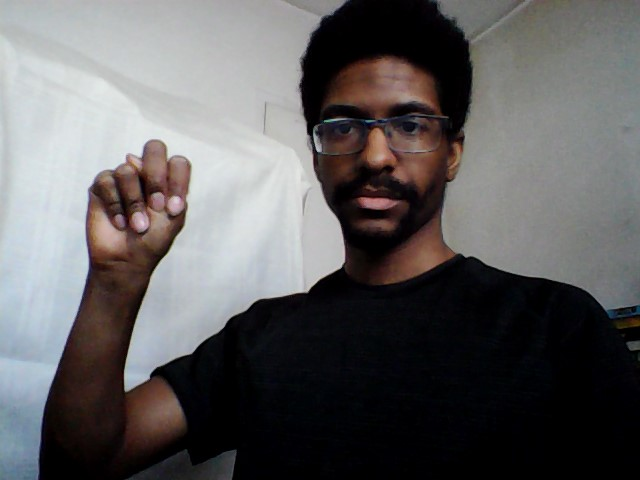n: (79, 137, 196, 278)
